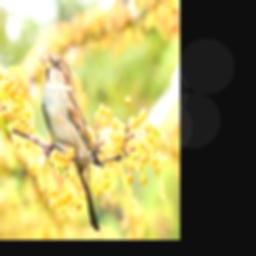Sparrow: (40, 53, 100, 232)
